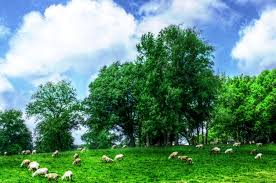sheep: (32, 168, 49, 178), (100, 154, 114, 165), (44, 172, 58, 182), (61, 169, 73, 180), (28, 160, 40, 171), (167, 151, 178, 160), (72, 157, 81, 166), (114, 153, 124, 161), (20, 159, 29, 167), (177, 154, 186, 162), (211, 147, 220, 155), (224, 148, 233, 156), (51, 150, 59, 158), (254, 153, 263, 160), (233, 141, 242, 148), (196, 143, 203, 150), (186, 157, 192, 164), (257, 141, 263, 147)
